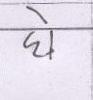e_matra: (26, 6, 51, 25)
